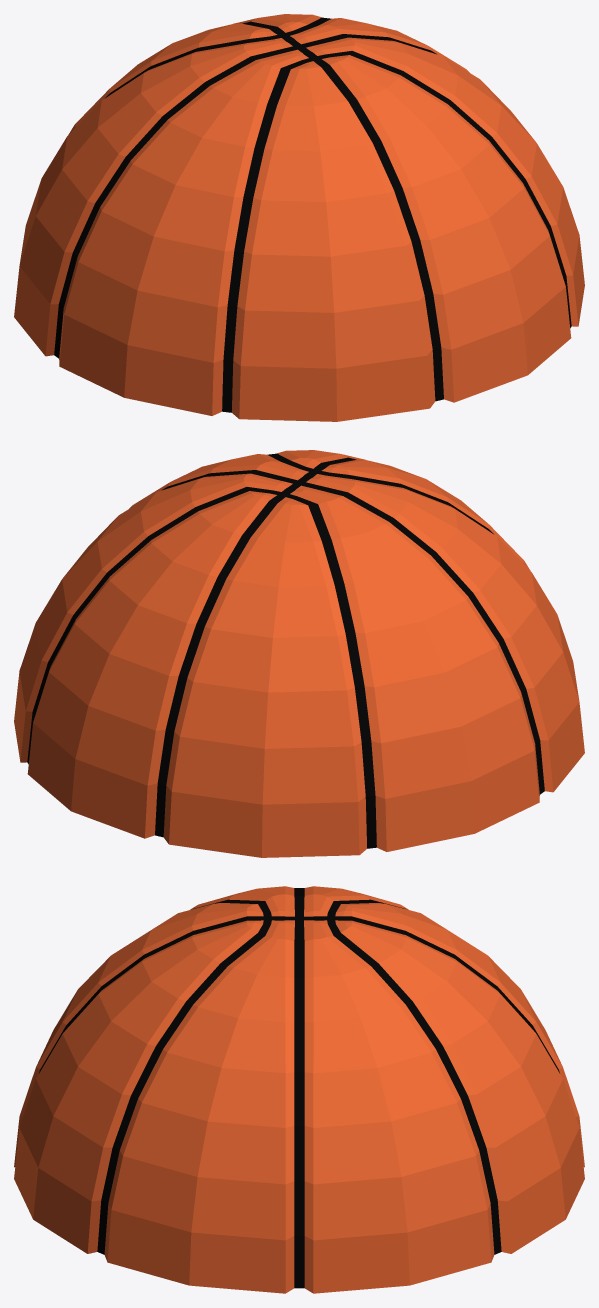
Rendered from bball_lowpoly.glb.
3 views of the same model, one above another, from view 1: azimuth 30°, elevation 25°; view 2: azimuth 150°, elevation 25°; view 3: azimuth 270°, elevation 25° (orthographic).
Parts seen in each view (by area): view 1: iso-ball; view 2: iso-ball; view 3: iso-ball.
Part boxes in pixels (x1=…): iso-ball: x1=14, y1=14, x2=584, y2=421; iso-ball: x1=14, y1=450, x2=584, y2=857; iso-ball: x1=14, y1=886, x2=584, y2=1293.
Size of the model in its own units: 1.98 by 0.9808 by 1.98.
